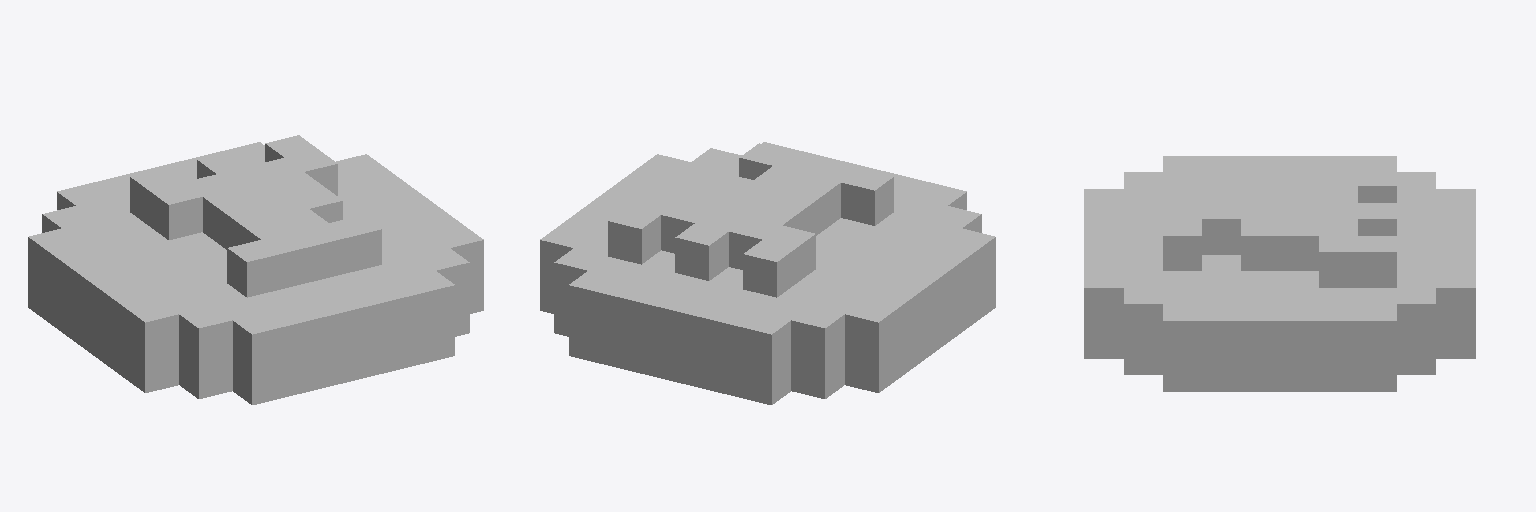
Rendered from Coin.obj.
3 renders of one model, left to right at view 1: azimuth 30°, elevation 25°; view 2: azimuth 150°, elevation 25°; view 3: azimuth 270°, elevation 25°, orthographic.
Size of the model in its own units: 10 by 3 by 10.